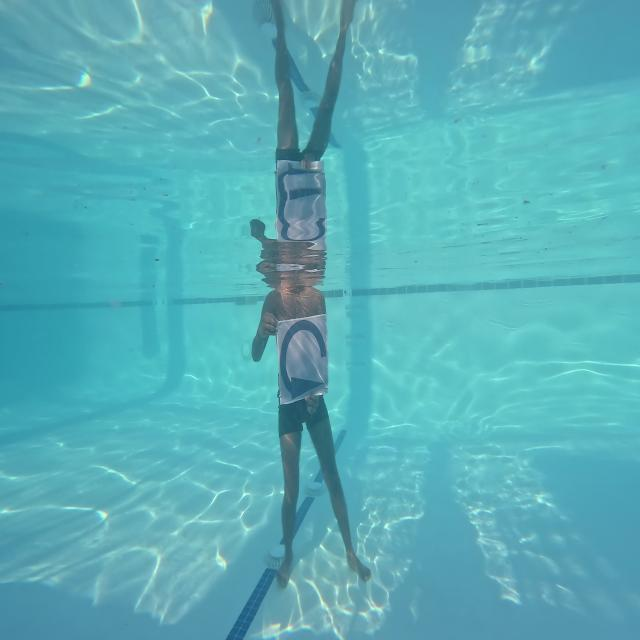blue_side: (272, 313, 339, 421)
